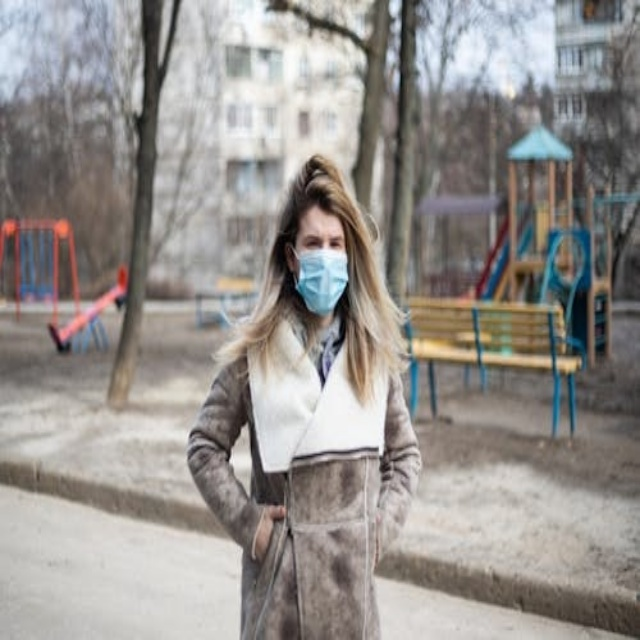Mascara: (291, 246, 349, 314)
Sin_gafas: (288, 219, 351, 259)
Sin_guantes: (241, 494, 291, 571)
